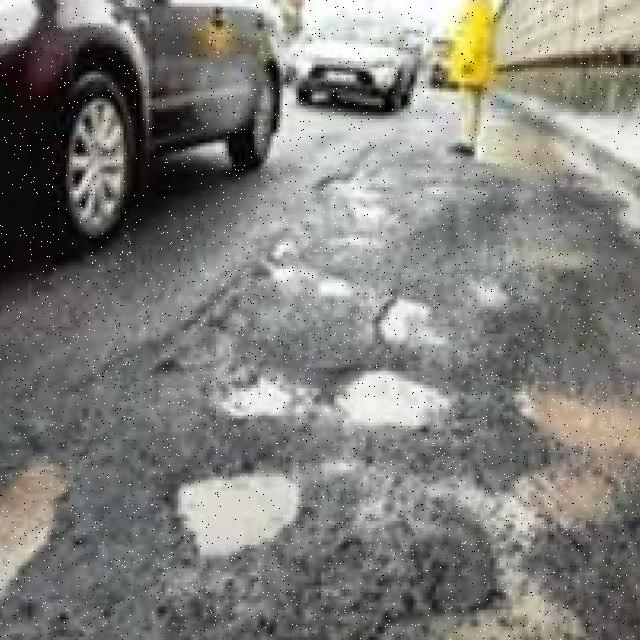pothole: (178, 473, 296, 559), (0, 467, 66, 599), (528, 388, 640, 460), (334, 371, 449, 429), (451, 620, 533, 640)
